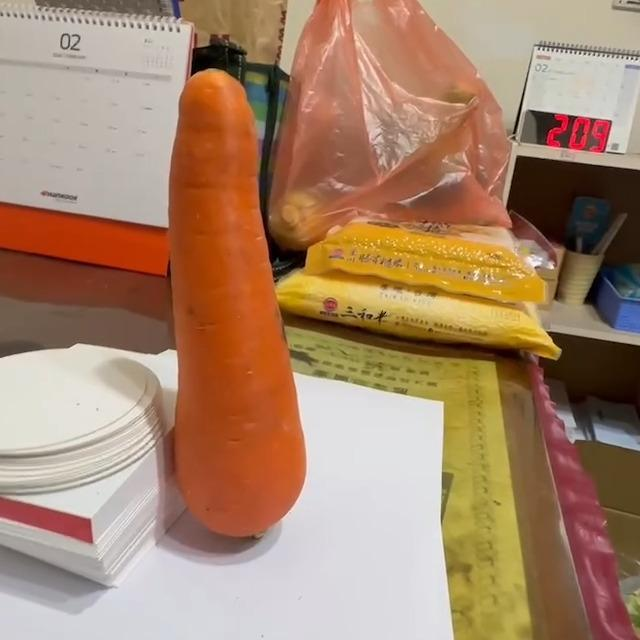carrot: (163, 70, 311, 543)
